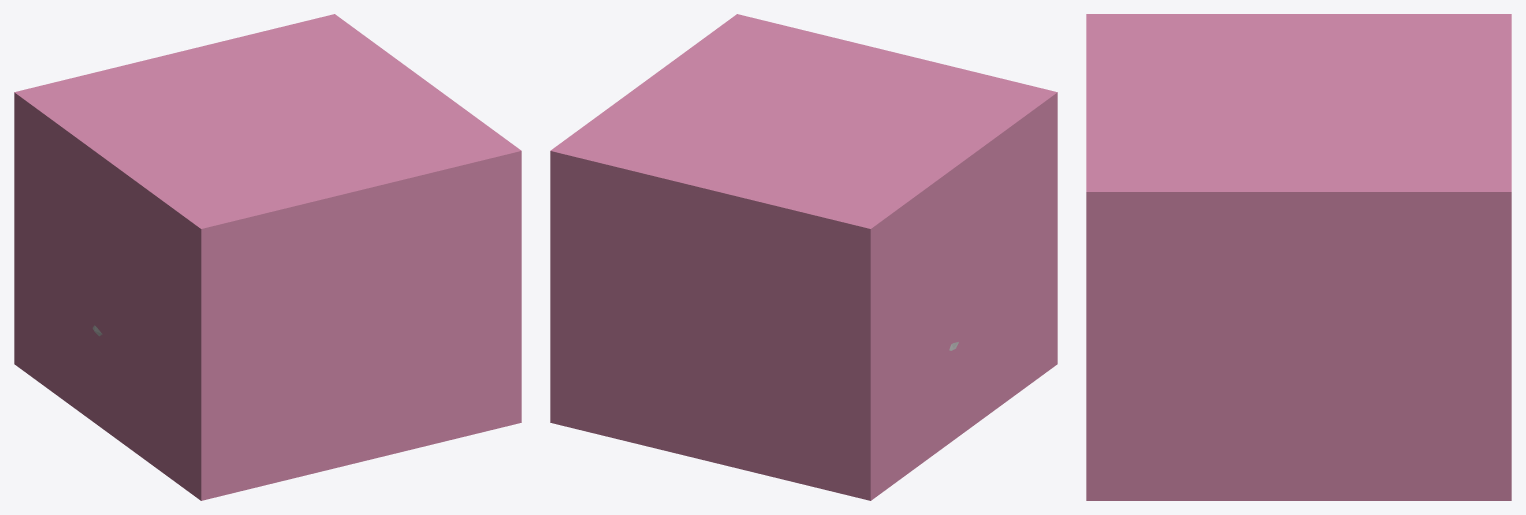
The model's file is rock_01_a_large_b.dae.
The picture shows the model from 3 angles, left to right: view 1: azimuth 30°, elevation 25°; view 2: azimuth 150°, elevation 25°; view 3: azimuth 270°, elevation 25°; orthographic projection. The views are drawn at different scales.
Parts seen in each view (by area): view 1: Untitled; view 2: Untitled; view 3: Untitled.
Part boxes in pixels (box(x1,y1,x2,y2)): Untitled: box(14, 14, 521, 500); Untitled: box(550, 14, 1057, 500); Untitled: box(1086, 14, 1511, 500).
Size of the model in its own units: 0.863 by 0.8683 by 0.6967.
